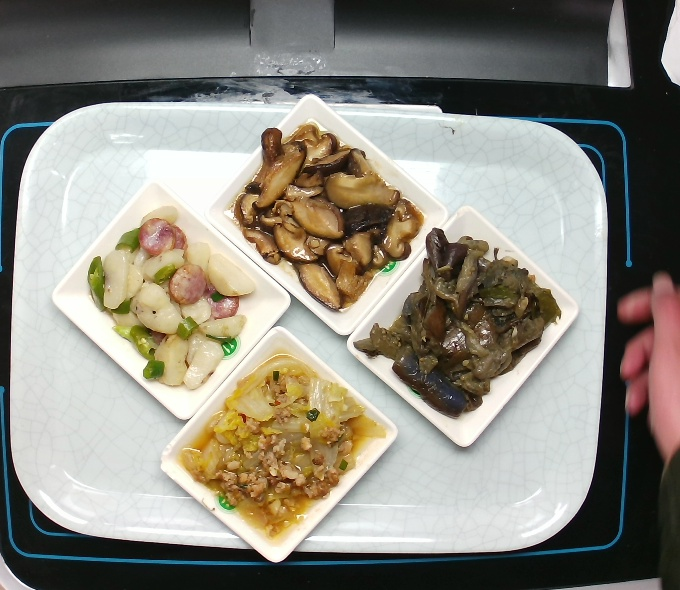wcq-MaTiGuo: (83, 201, 260, 394)
wcq-MoGu: (229, 114, 432, 318)
wcq-QieZi: (348, 224, 564, 422)
wcq-RouMoBaiCai: (171, 346, 389, 554)
